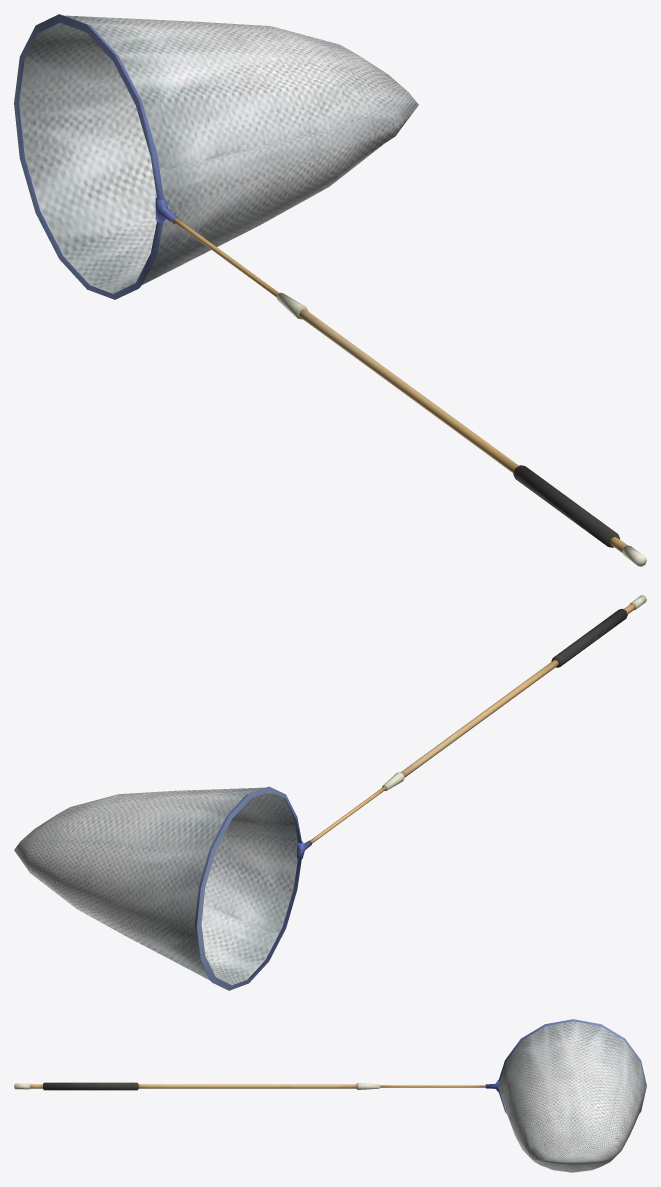
The model's file is sword_l_mushitoriami_mushitoriami.glb.
3 views of the same model, one above another, from view 1: azimuth 30°, elevation 25°; view 2: azimuth 150°, elevation 25°; view 3: azimuth 270°, elevation 25° (orthographic). The views are drawn at different scales.
Bounding box in the file's own units: 0.4931 × 0.3983 × 1.71.
Materials: 2 (2 with a texture image).
